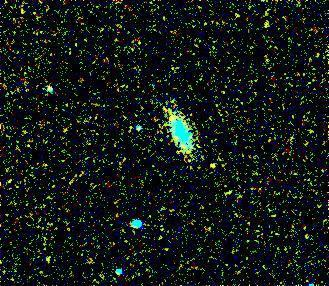star: (203, 152, 233, 182)
